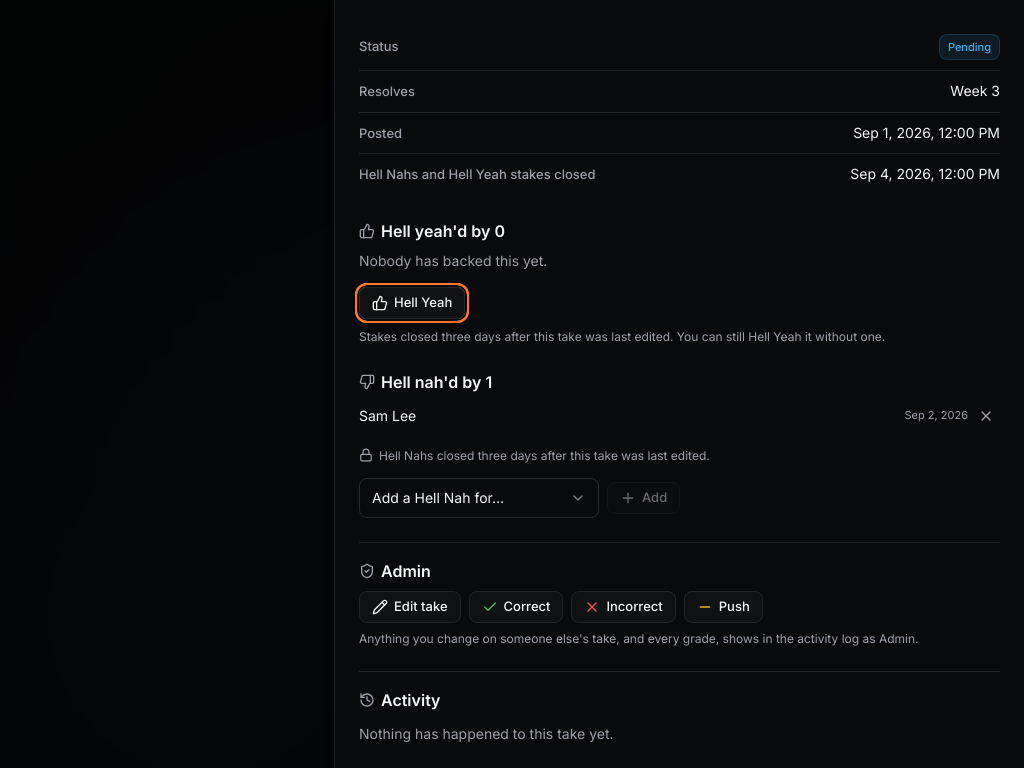
Test case: TakeDetailSheet, admin › keeps the editor open and says why when the save is refused
(page scrolled)
Click the button "Edit take" at (410, 607), box [359,591,460,623]
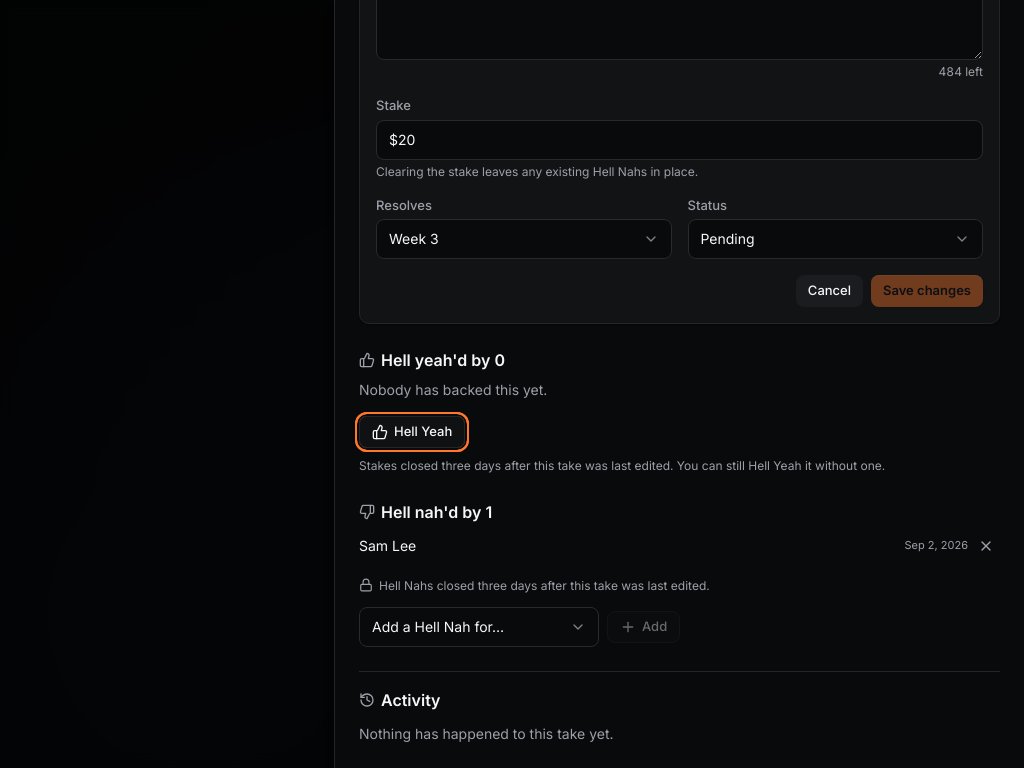
Replace the text in the field labelled "Stake" with "$50" at (680, 140), box [376,120,983,160]
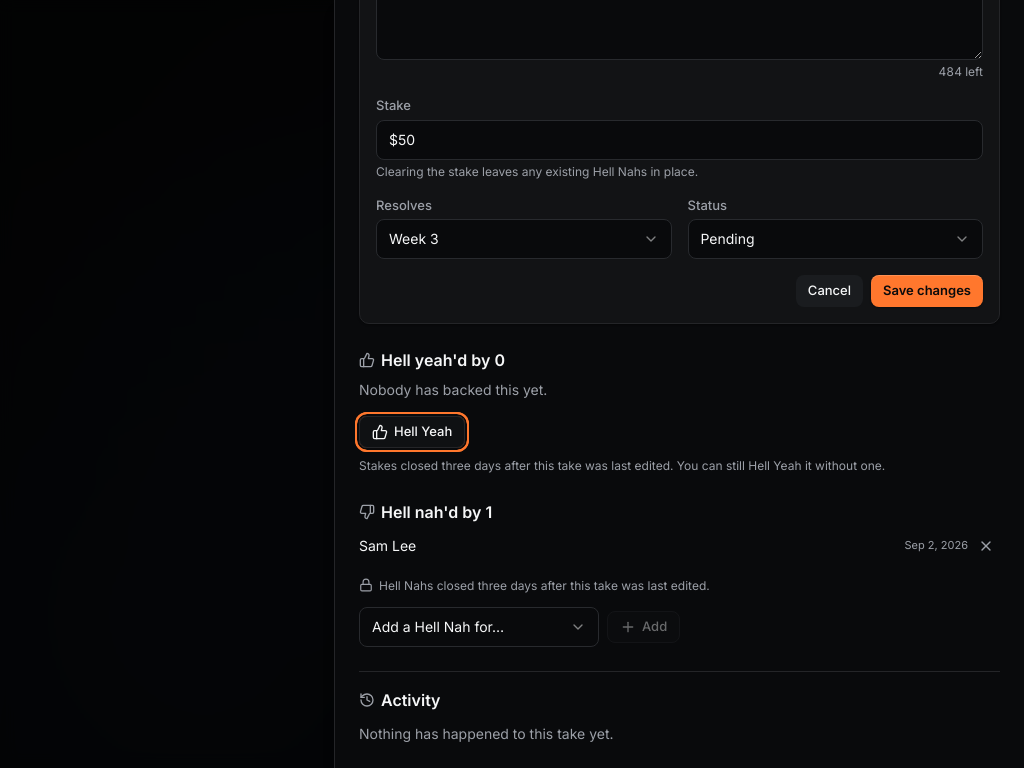
Click the button "Save changes" at (927, 291), box [871,275,983,307]
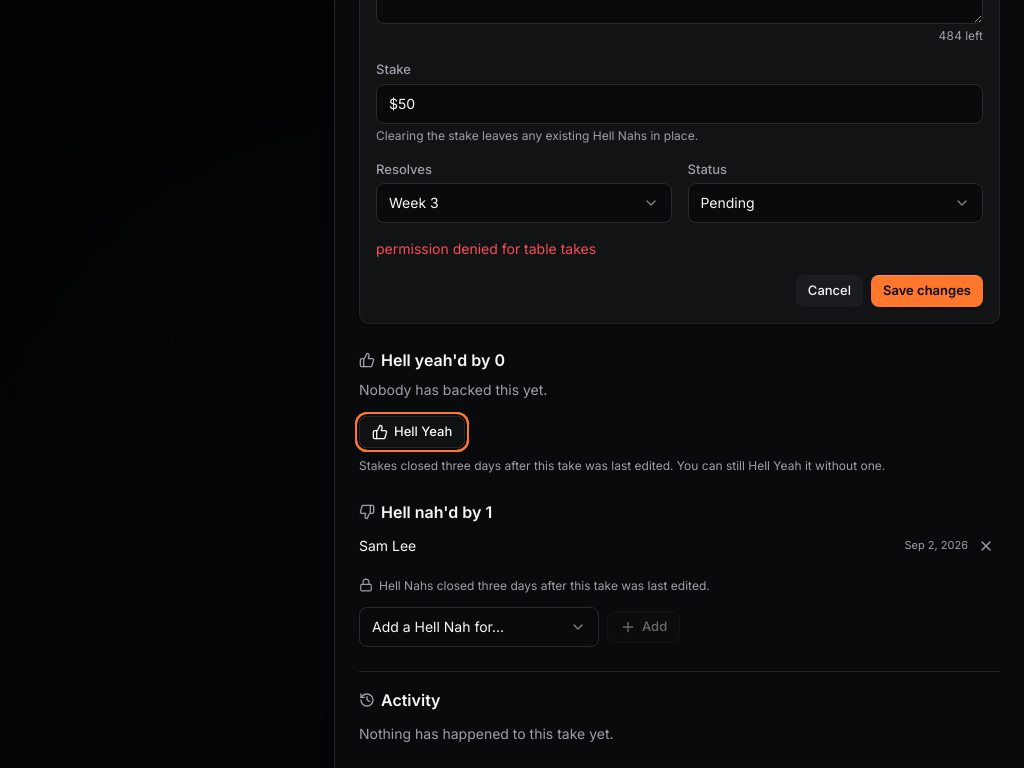
Now the text "permission denied for table takes" is shown, box [376,240,596,257]
